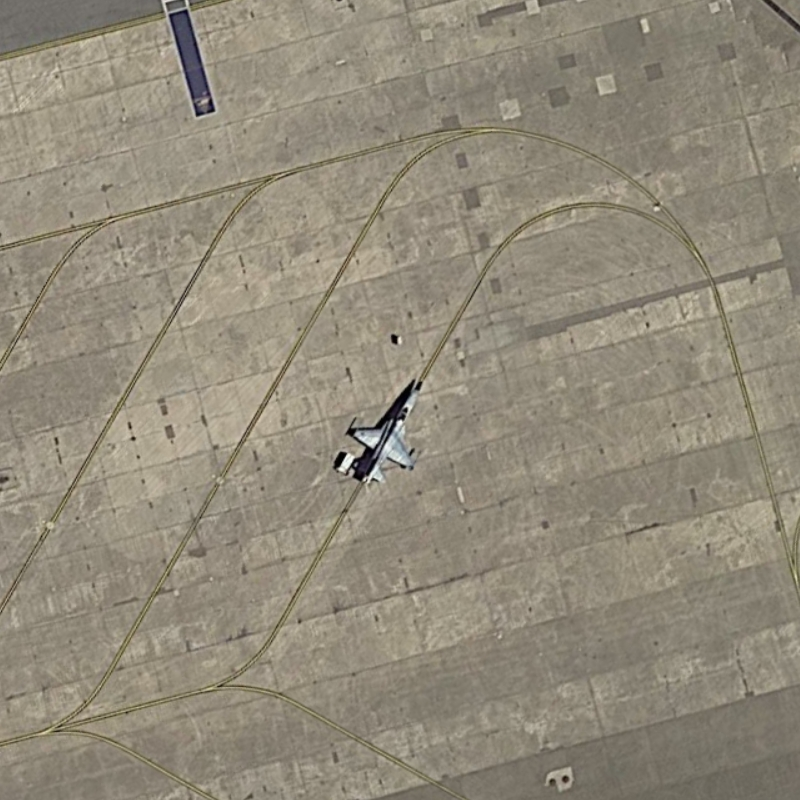A16: (342, 382, 426, 490)
